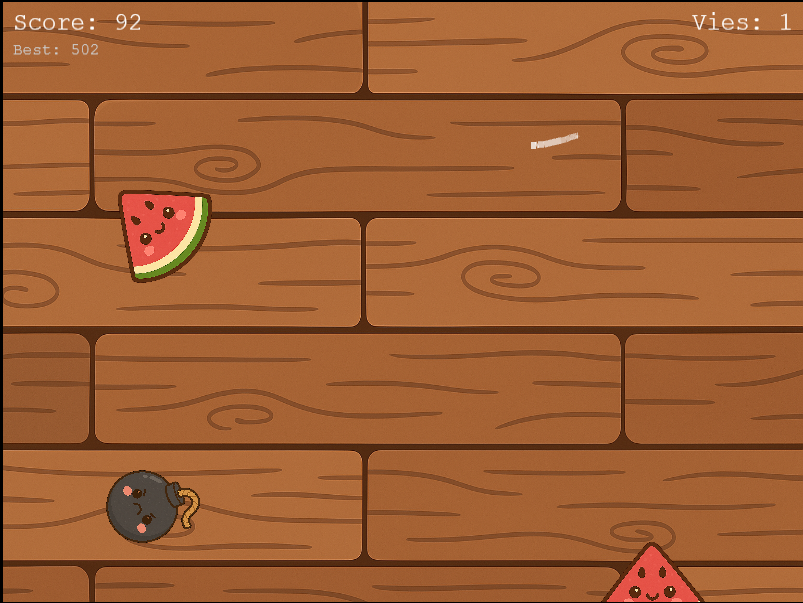bomb: (102, 463, 205, 548)
fruit: (112, 182, 216, 287), (595, 533, 712, 603)
